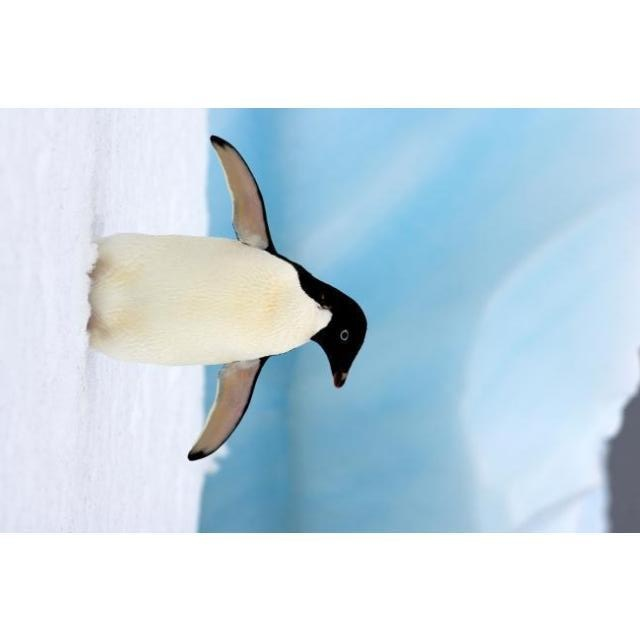penguin: (84, 131, 369, 463)
